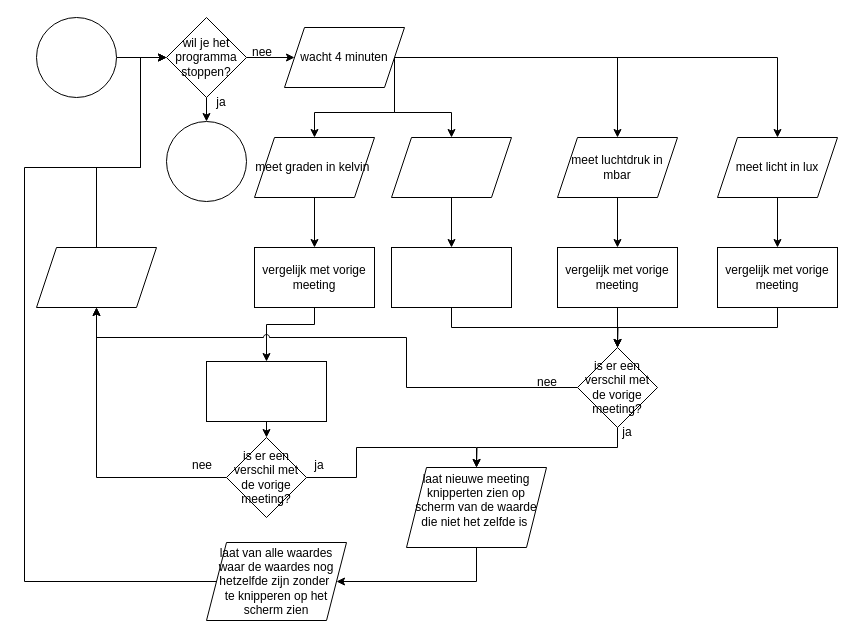
Image size: 855x638. Some labels were removed from this diagram. The shapes that lost their labels are listed below. From the top down, each one's centre as x and y in pixels, then its label:
the point at 76,57: start
the point at 206,161: einde
the point at 451,167: meet luchtvochtigheid in procent
the point at 96,277: laat alle waardes zien van alle meetingen op het scherm
the point at 451,277: vergelijkt met vorige meeting
the point at 266,391: breken naar celcius
